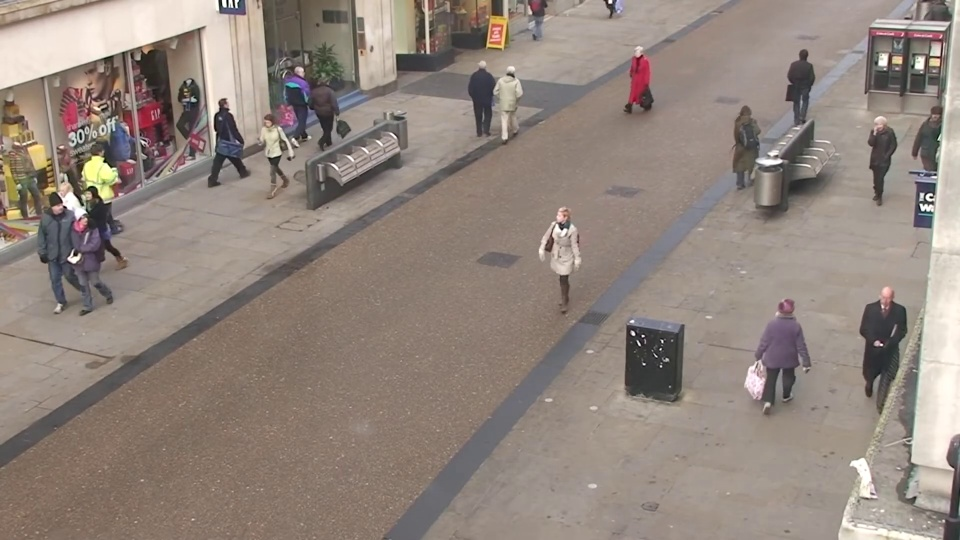pedestrian: (854, 283, 910, 425), (763, 282, 814, 422), (55, 205, 109, 322), (31, 194, 85, 308), (34, 177, 87, 286), (62, 182, 113, 292), (539, 209, 577, 331), (907, 102, 953, 199), (88, 134, 132, 232), (855, 116, 897, 214), (247, 112, 283, 204), (731, 100, 764, 192), (217, 89, 251, 175), (314, 69, 344, 151), (788, 46, 819, 125), (288, 59, 318, 138), (473, 56, 501, 136), (502, 60, 529, 140), (619, 44, 644, 120)
